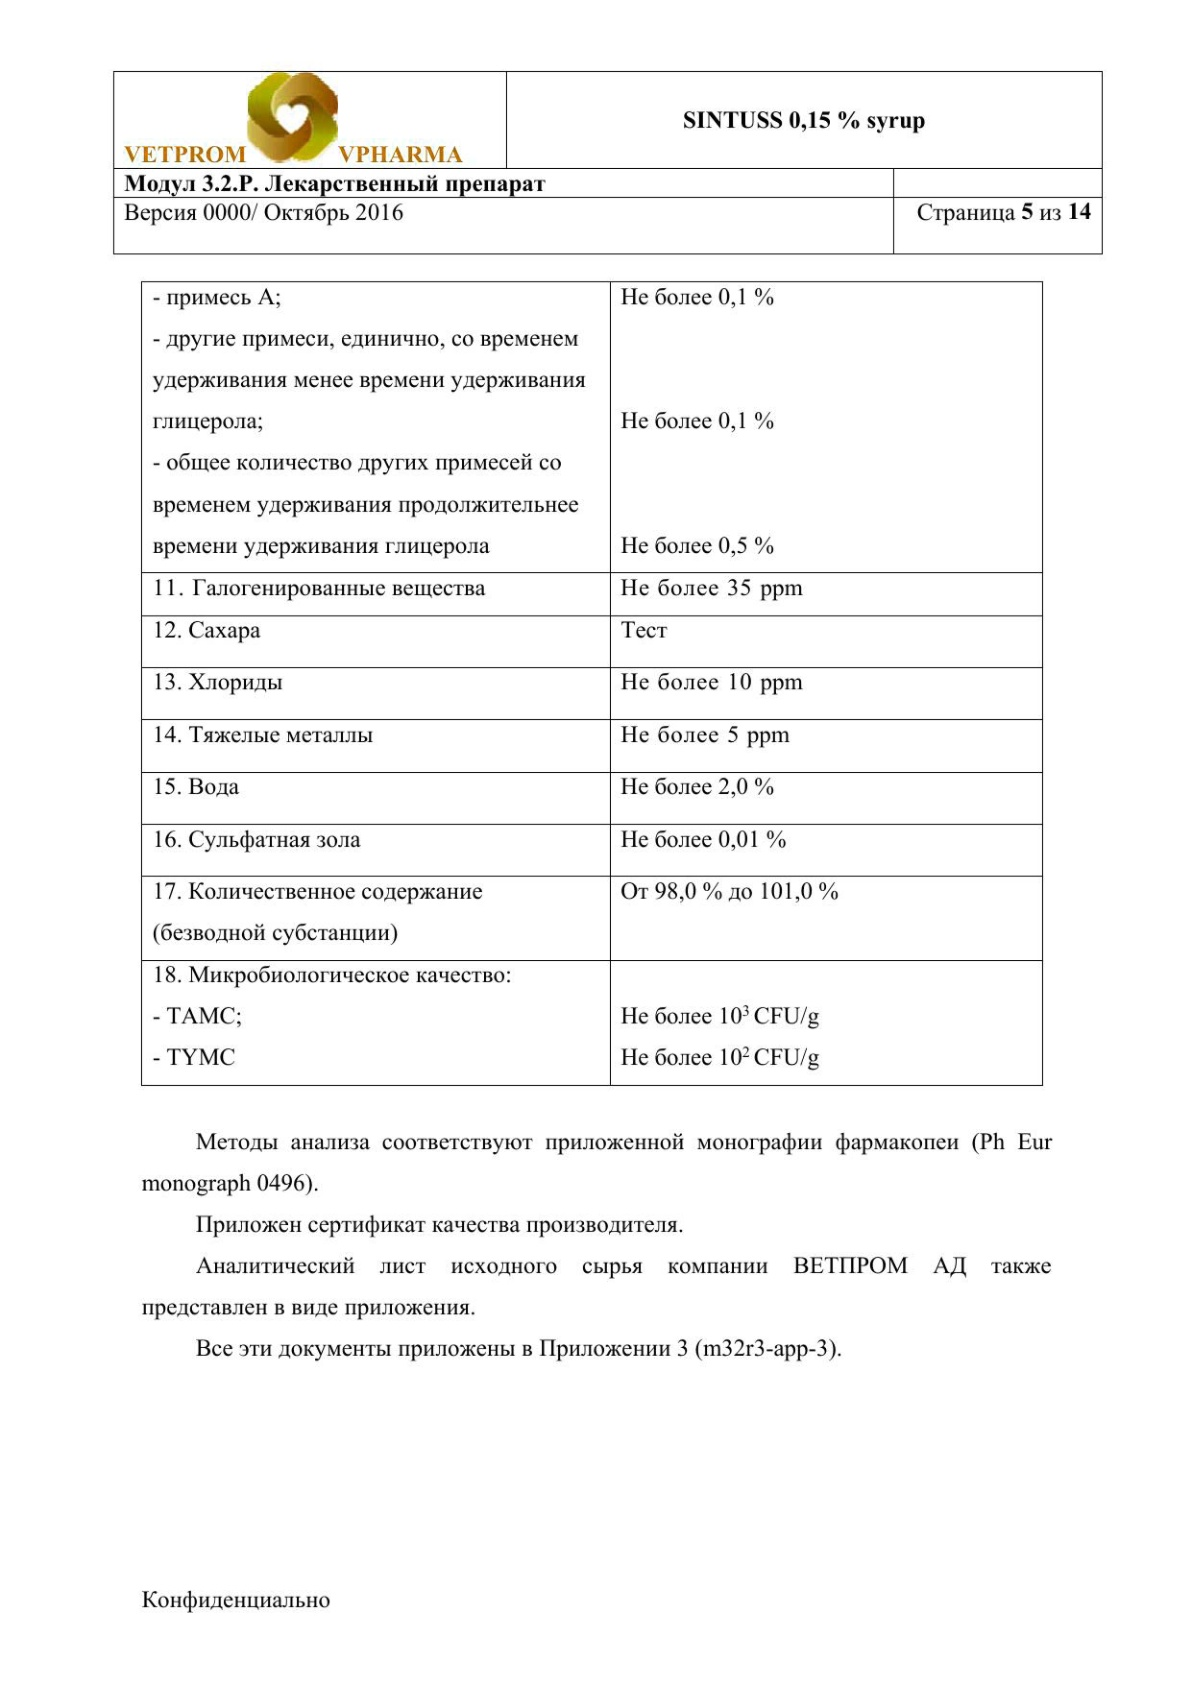full_lined: (139, 280, 1042, 1088)
merged_cells: (111, 68, 1106, 255)
